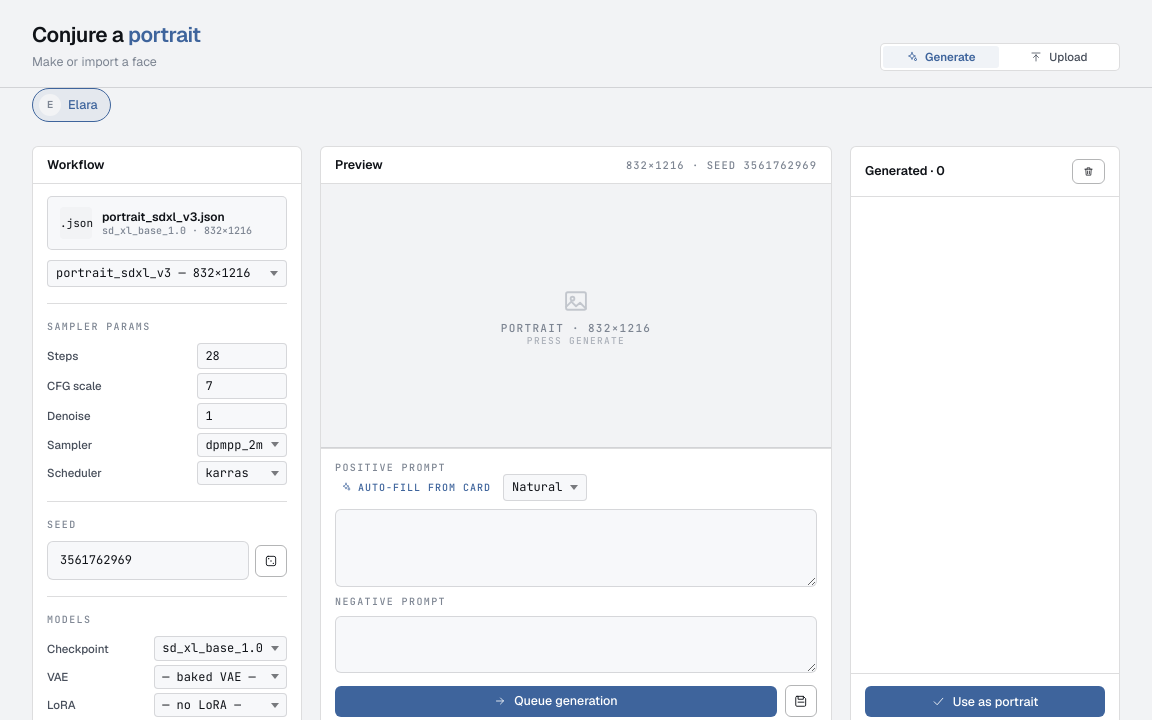
Test: PortraitScreen › switches to upload tab
Click the button "Upload".
click(1059, 57)  # box [1001, 46, 1117, 68]
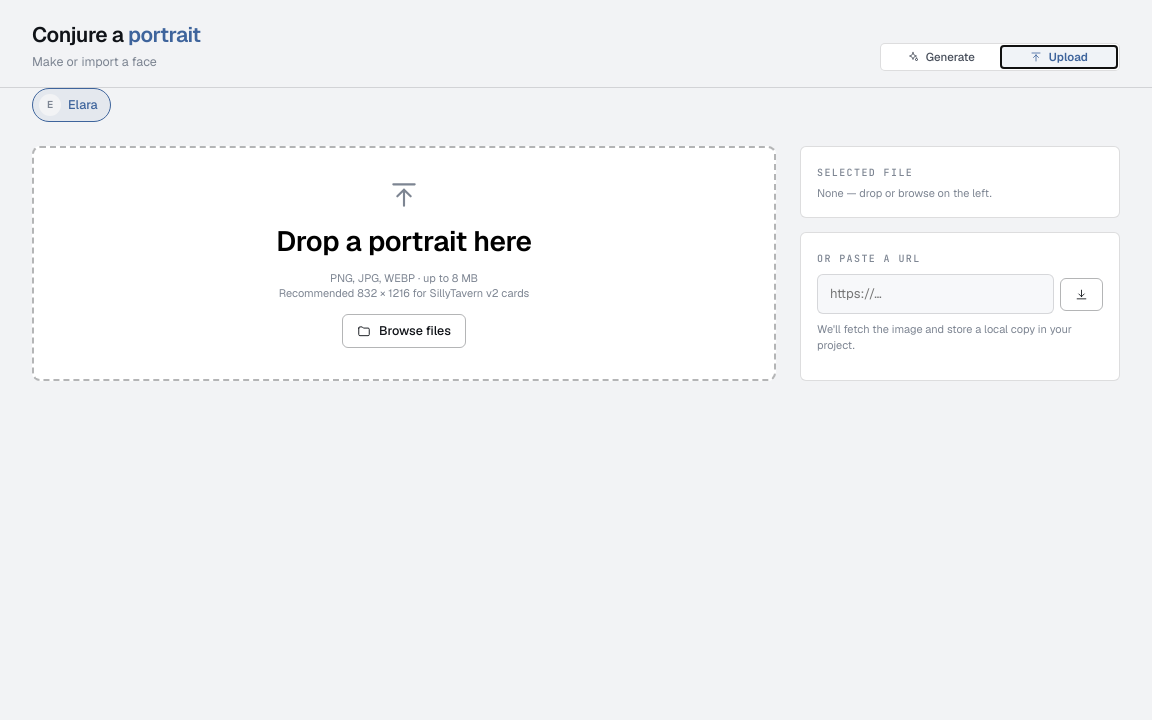
Now the text "Drop a portrait here" is shown, box [276, 223, 532, 259]
